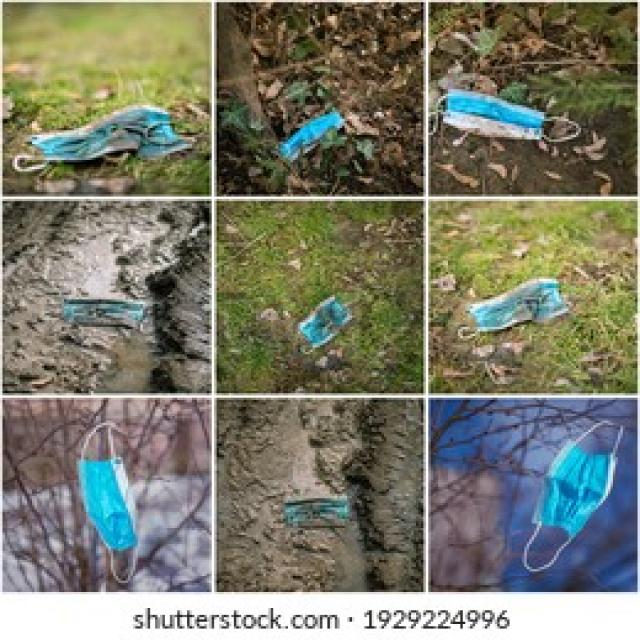non-organic waste: (20, 101, 192, 192), (522, 421, 623, 562), (81, 425, 148, 572), (455, 82, 571, 142)
